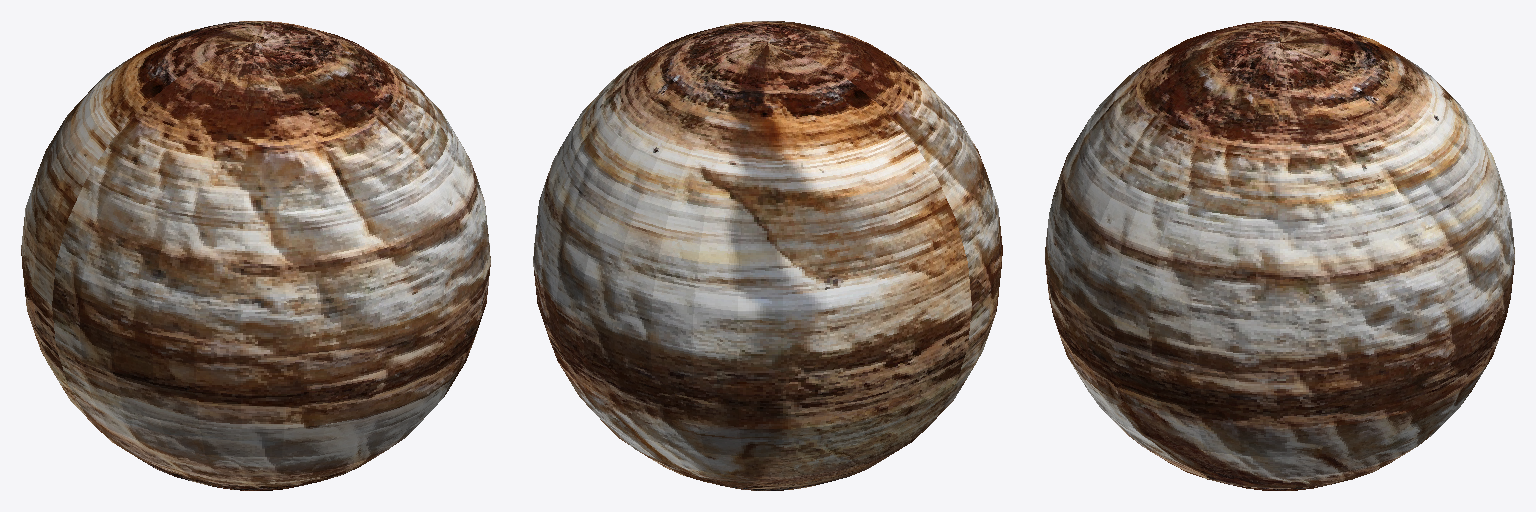
3 views of the same model, side by side, from view 1: azimuth 30°, elevation 25°; view 2: azimuth 150°, elevation 25°; view 3: azimuth 270°, elevation 25° (orthographic).
Parts seen in each view (by area): view 1: Sphere32; view 2: Sphere32; view 3: Sphere32.
Boxes of the visible parts, x1,y1,x2,y2 form: Sphere32: [21, 21, 490, 490]; Sphere32: [533, 21, 1002, 490]; Sphere32: [1045, 21, 1514, 490].
Size of the model in its own units: 2 by 2 by 2.
1 materials, 1 textured.